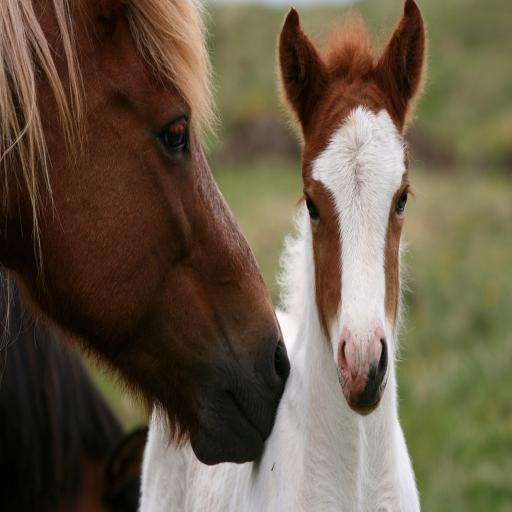horse: (140, 0, 430, 512), (0, 0, 290, 511)
